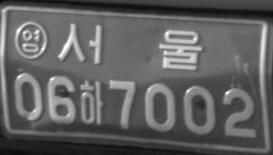0: (182, 84, 217, 137), (144, 81, 176, 133), (13, 71, 43, 122)
2: (222, 86, 257, 139)
6: (46, 74, 77, 124)
7: (108, 79, 136, 131)
서울_D: (57, 22, 203, 71)
영: (13, 19, 48, 60)
하: (78, 79, 104, 125)
